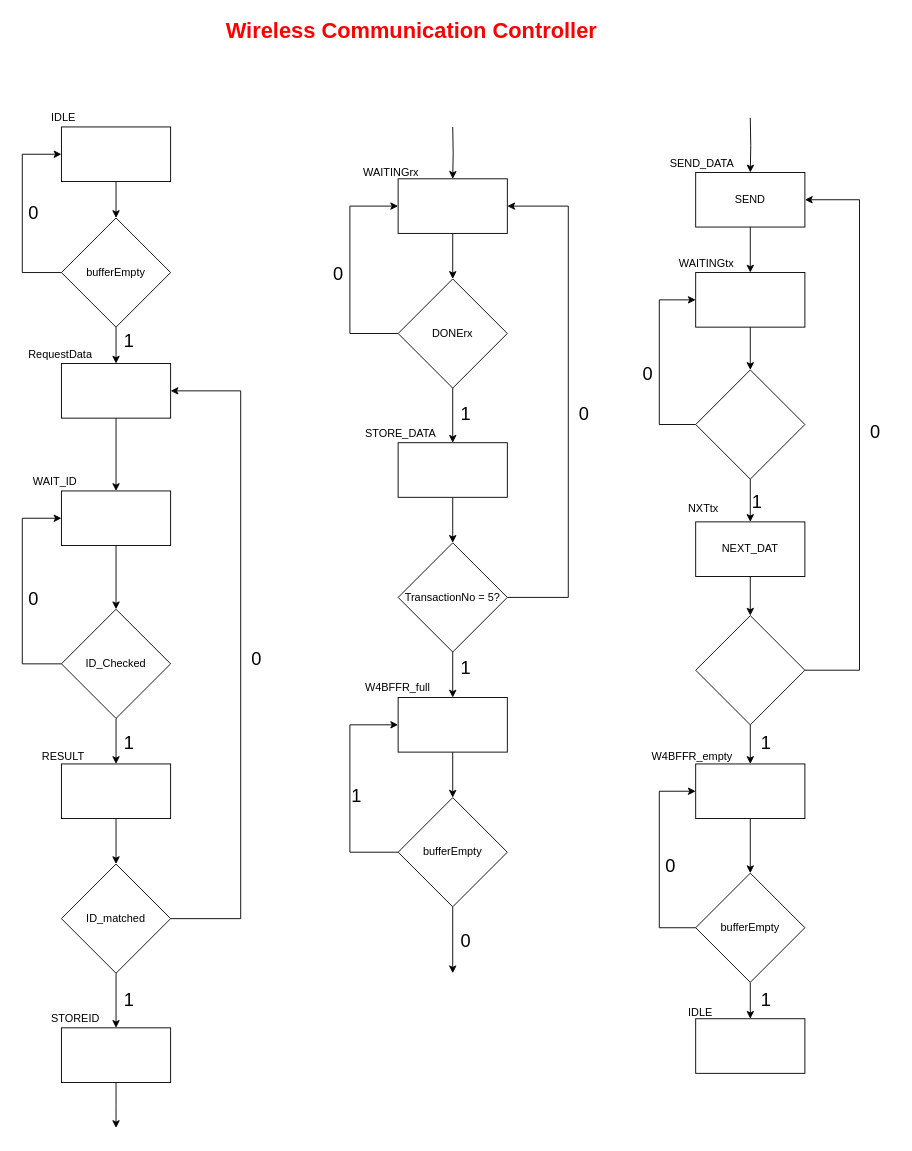
Image size: 912x1151. Some labels were removed from this diagram. Each missing label, with the centre of its shape:
"DONEtx" belongs at pixel 750 424.
"nextTx = 12" belongs at pixel 750 670.
"SEND_REQUEST" belongs at pixel 116 390.
"STORE" belongs at pixel 452 469.
"STORE_ID" belongs at pixel 116 1054.
